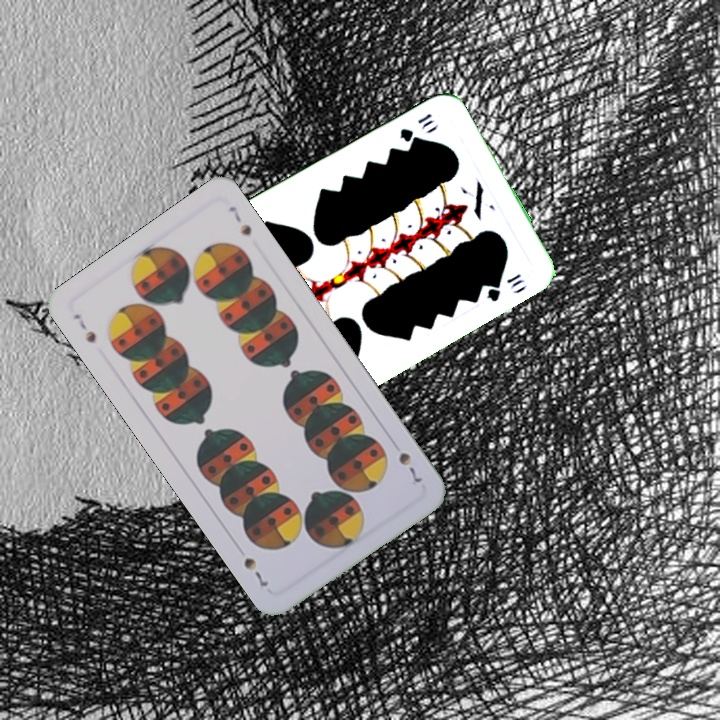G10: (395, 109, 436, 145)
S7: (394, 448, 424, 486), (69, 309, 99, 346)
